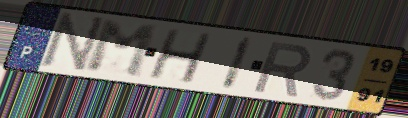3: (310, 47, 359, 104)
H: (144, 28, 214, 86)
I: (218, 34, 257, 93)
M: (84, 19, 160, 80)
N: (36, 11, 109, 76)
R: (251, 39, 315, 98)
